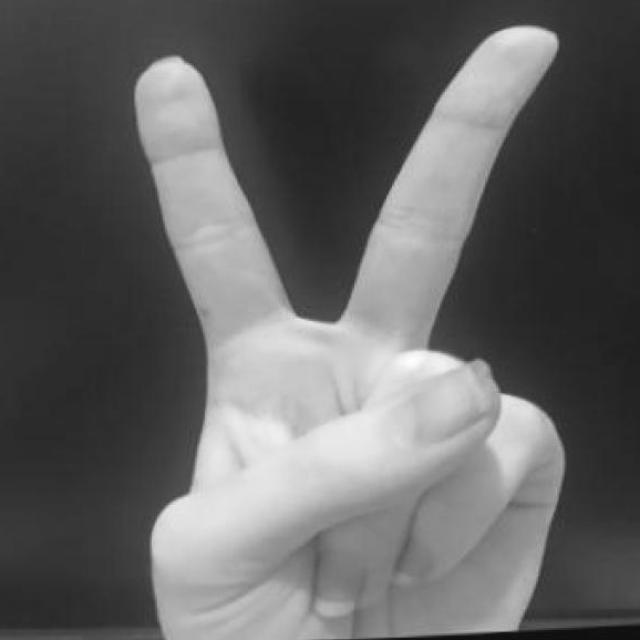V: (124, 8, 598, 640)
